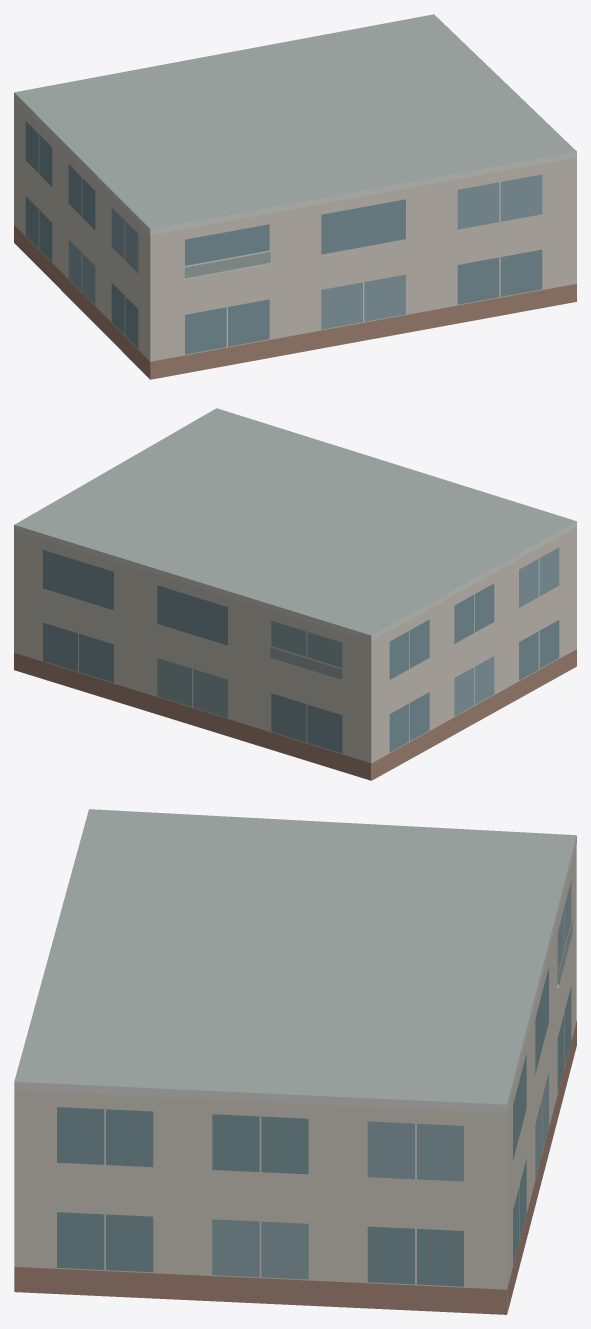
Rendered from survey-upis-33011122.glb.
3 views of the same model, one above another, from view 1: azimuth 30°, elevation 25°; view 2: azimuth 150°, elevation 25°; view 3: azimuth 270°, elevation 25° (orthographic). The views are drawn at different scales.
Parts seen in each view (by area): view 1: survey-upis-33011122.tmp; view 2: survey-upis-33011122.tmp; view 3: survey-upis-33011122.tmp.
Part boxes in pixels (x1,y1,x2,y2): survey-upis-33011122.tmp: (14, 14, 576, 379); survey-upis-33011122.tmp: (14, 408, 576, 780); survey-upis-33011122.tmp: (14, 809, 576, 1314).
Bounding box in the file's own units: 18.4 × 6.1 × 14.81.
